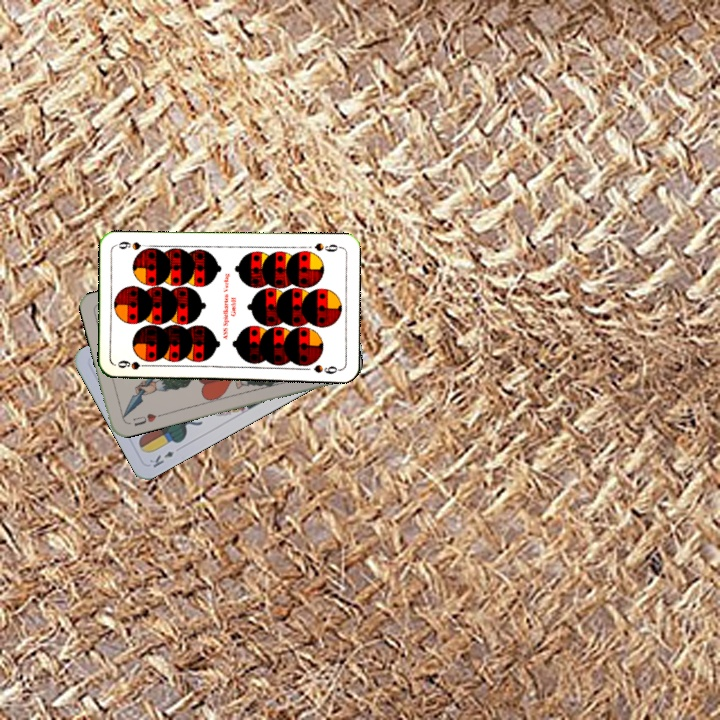EK: (146, 442, 184, 471)
HU: (129, 409, 164, 429)
S9: (113, 356, 154, 372), (311, 239, 343, 255)
